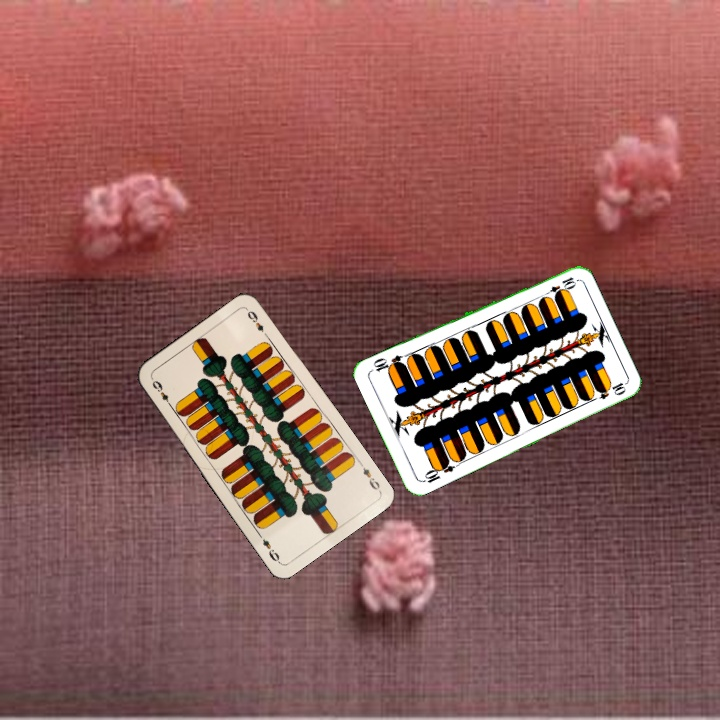E10: (418, 457, 457, 486), (539, 273, 578, 300)
E9: (355, 458, 383, 494), (148, 376, 175, 410)
